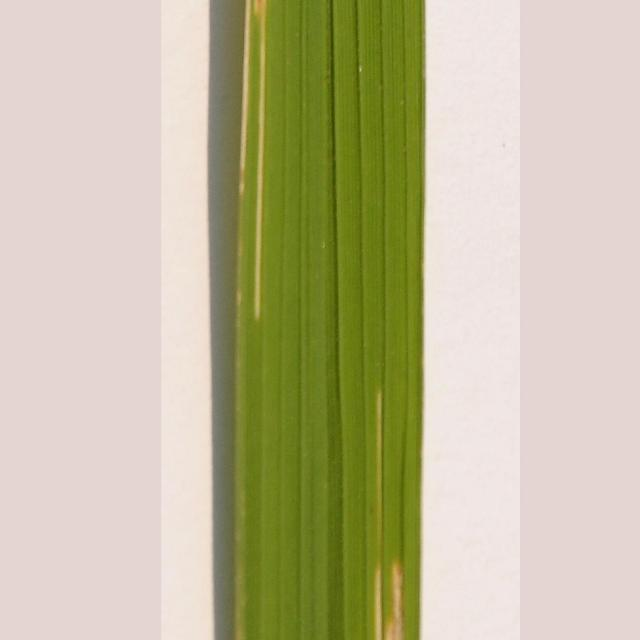leaf blight: (353, 395, 416, 640), (233, 1, 279, 320)
